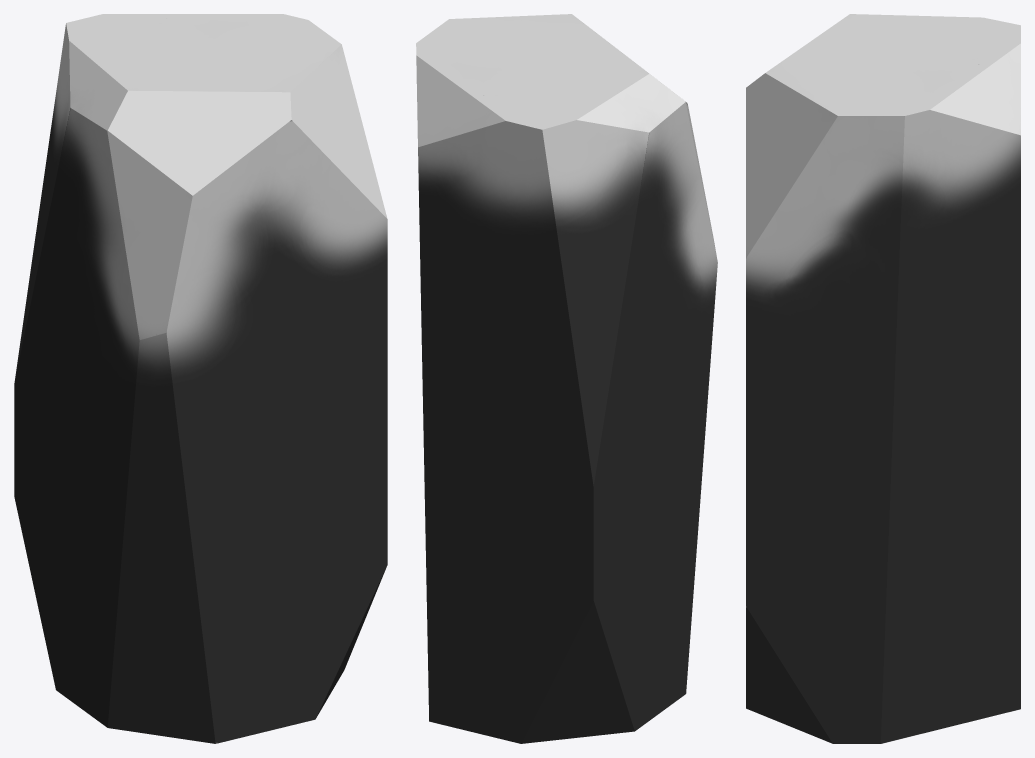
Rendered from TallRock3.fbx.
3 views of the same model, side by side, from view 1: azimuth 30°, elevation 25°; view 2: azimuth 150°, elevation 25°; view 3: azimuth 270°, elevation 25° (orthographic).
Visible parts, largest first — view 1: TallRock3; view 2: TallRock3; view 3: TallRock3.
Part boxes in pixels (x1,y1,x2,y2): TallRock3: (14,14,387,743); TallRock3: (416,14,717,743); TallRock3: (746,14,1020,743).
Bounding box in the file's own units: 321 × 809 × 321.
1 material, 1 textured.
